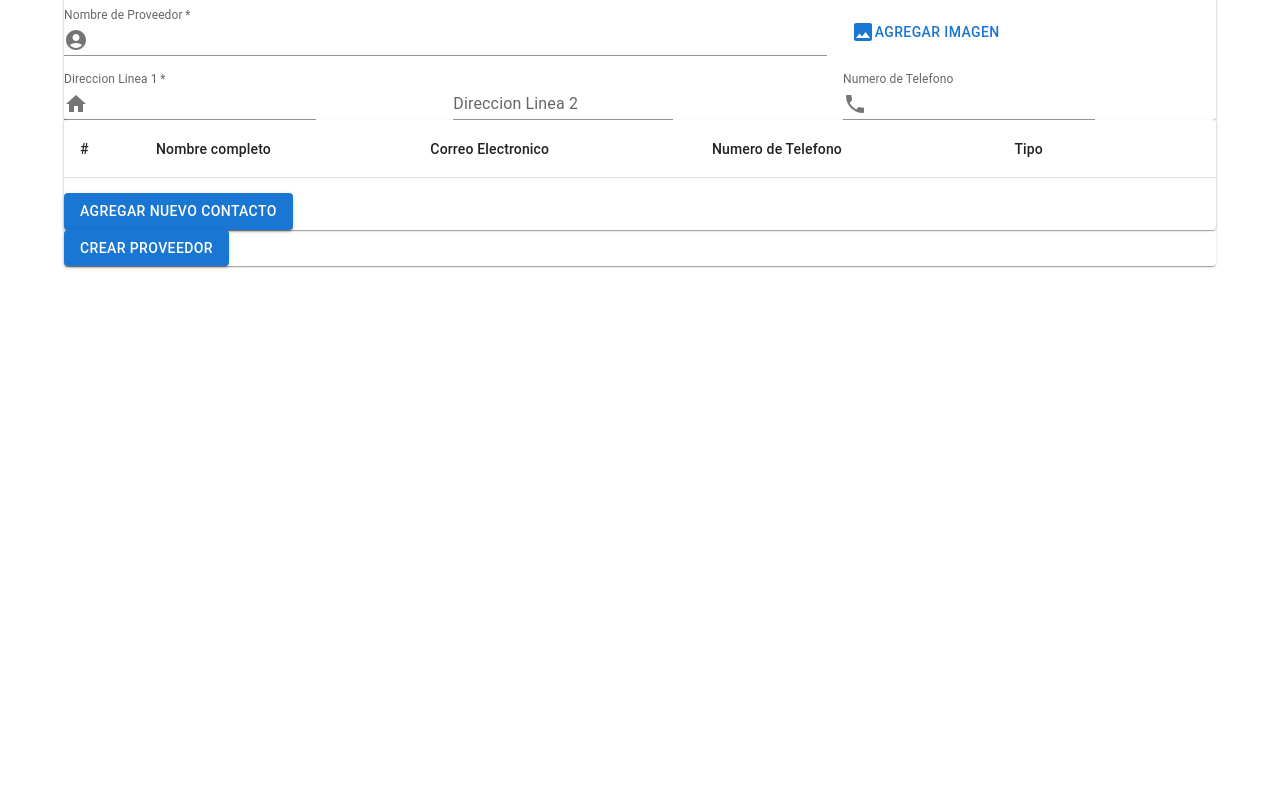
Scenario: CreateSupplierView › Should display error message upon suppliersClient failure
The image size is (1280, 800).
Type "SomeRandomName" into the field labelled "Nombre de Proveedor *".
click(461, 40); type("SomeRandomName")  # box [96,24,827,56]
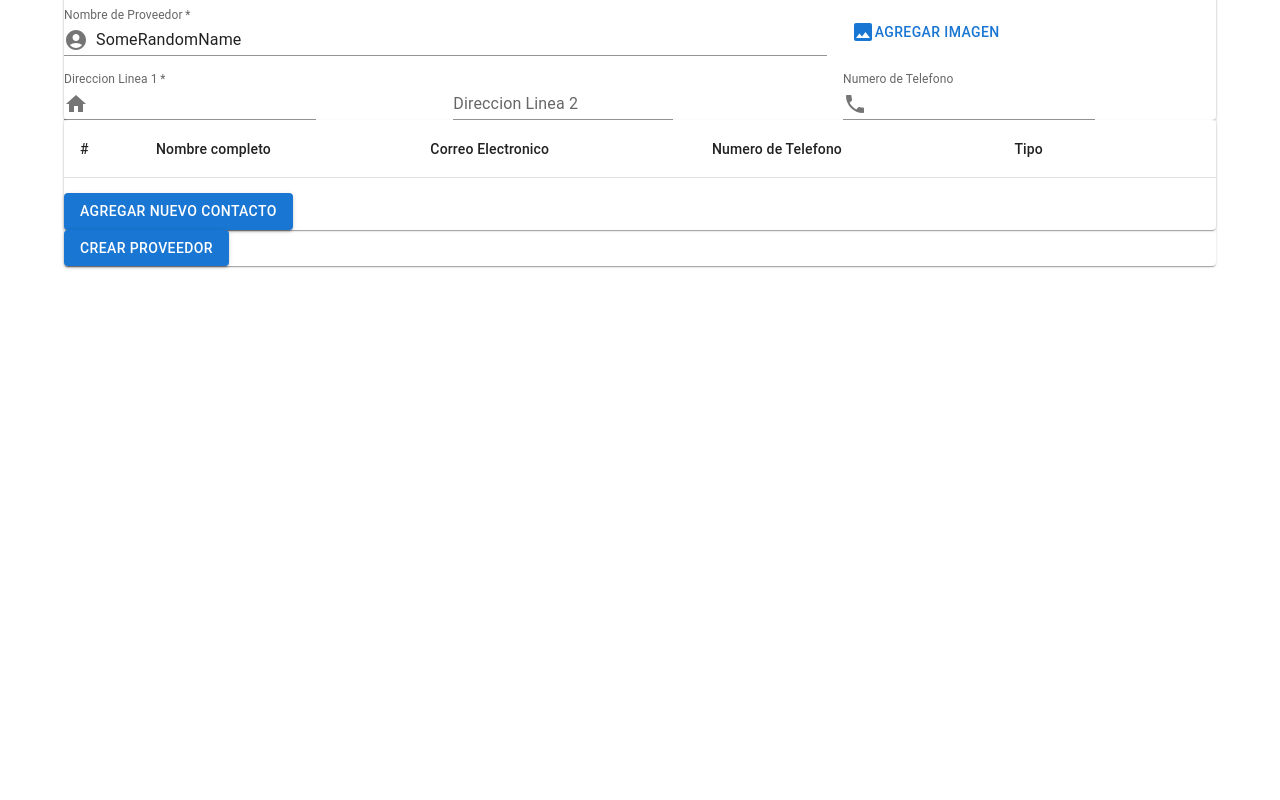
Type "SomeRandomPhoneNumber" into the field labelled "Numero de Telefono".
click(985, 104); type("SomeRandomPhoneNumber")  # box [875,88,1095,120]
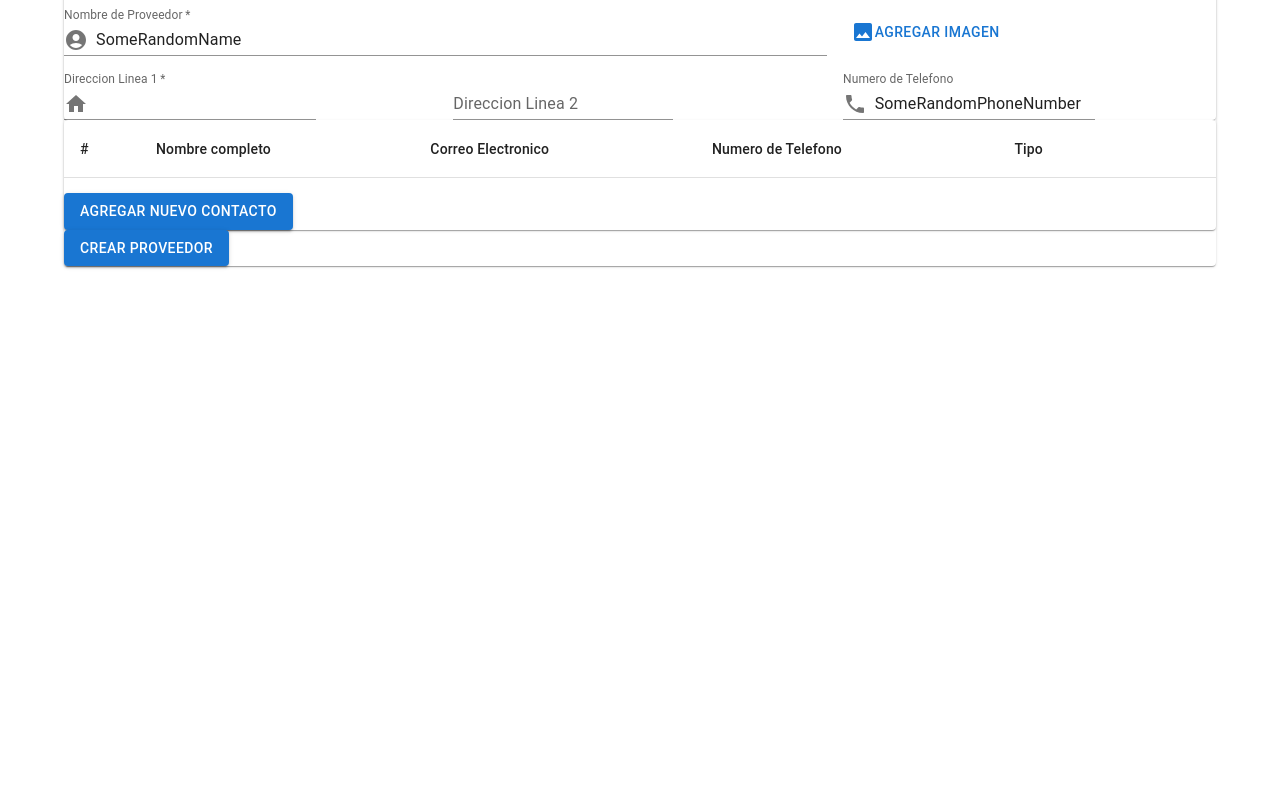
Click the button "Crear Proveedor".
click(146, 248)  # box [64,230,229,266]
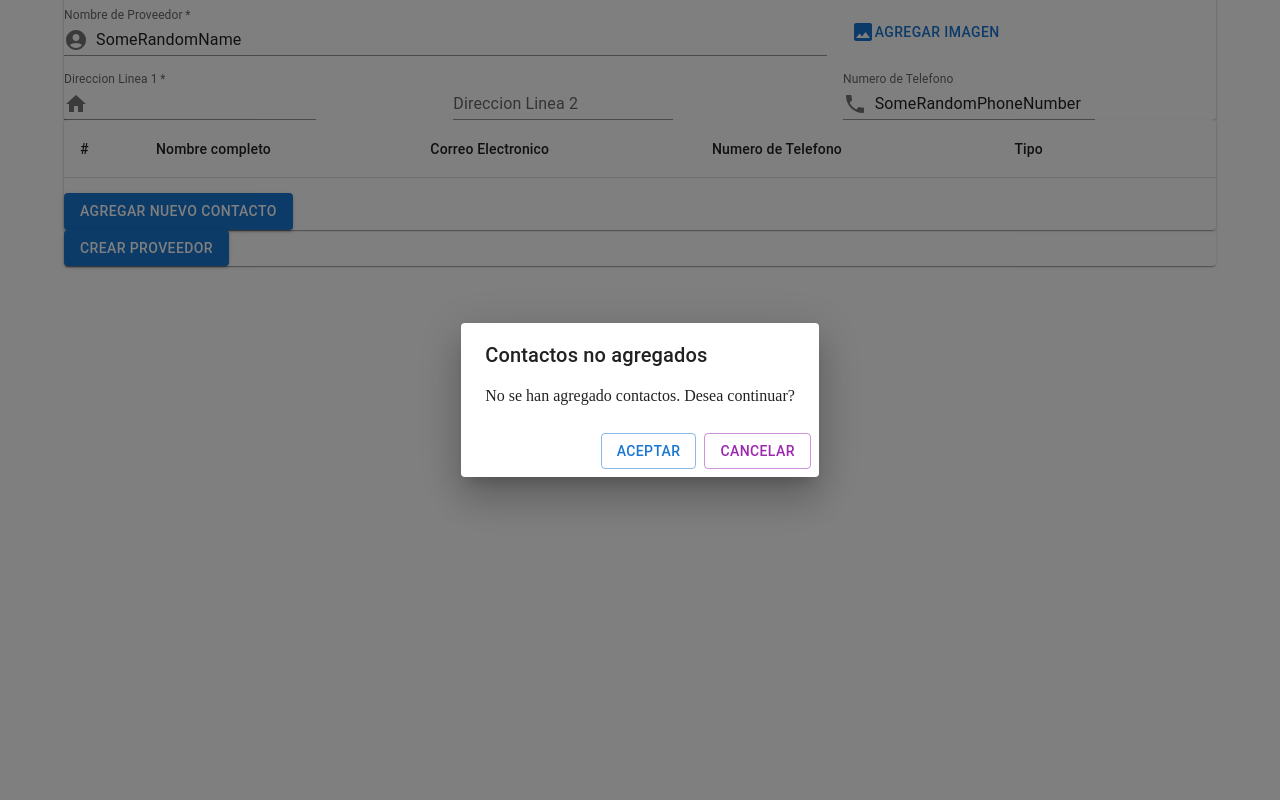
Expected: the heading "Contactos no agregados" is shown, [485,343,708,367]
Click the button "Aceptar".
click(649, 451)  # box [601,433,696,469]
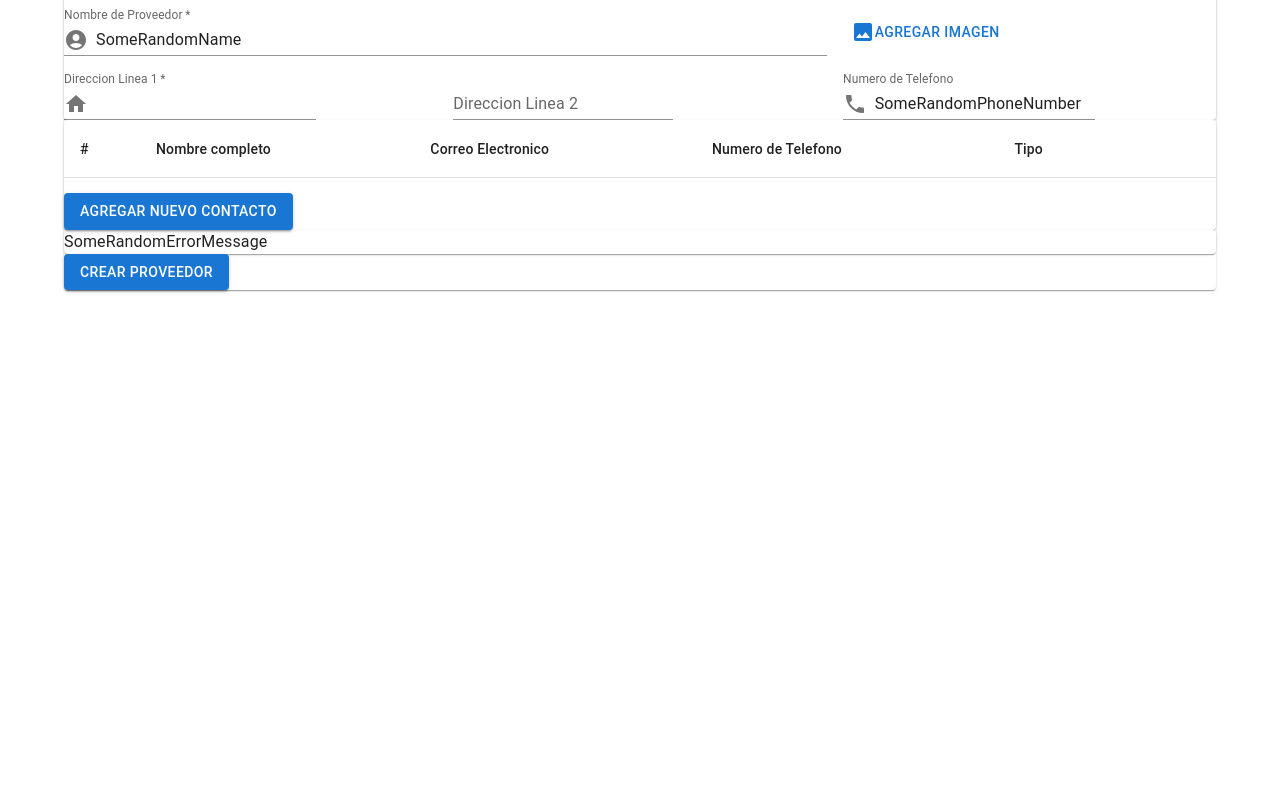
Expected: the text "SomeRandomErrorMessage" is shown, [64,232,268,251]
